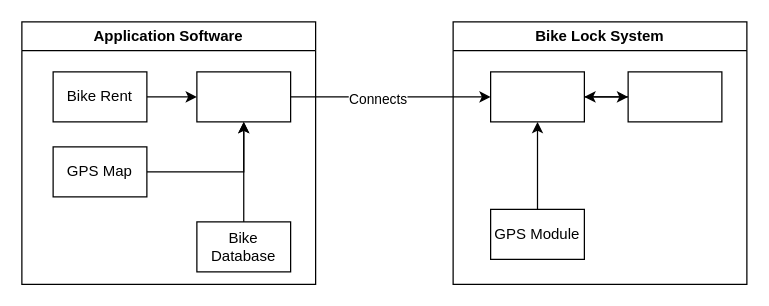
Some shapes in this 769 by 306 pixel diagram are drawn without their labels. The centre of each missing label's shape, as x and y in pixels:
"API" belongs at [243,96].
"Lock" belongs at [674,96].
"Sensor" belongs at [536,96].
